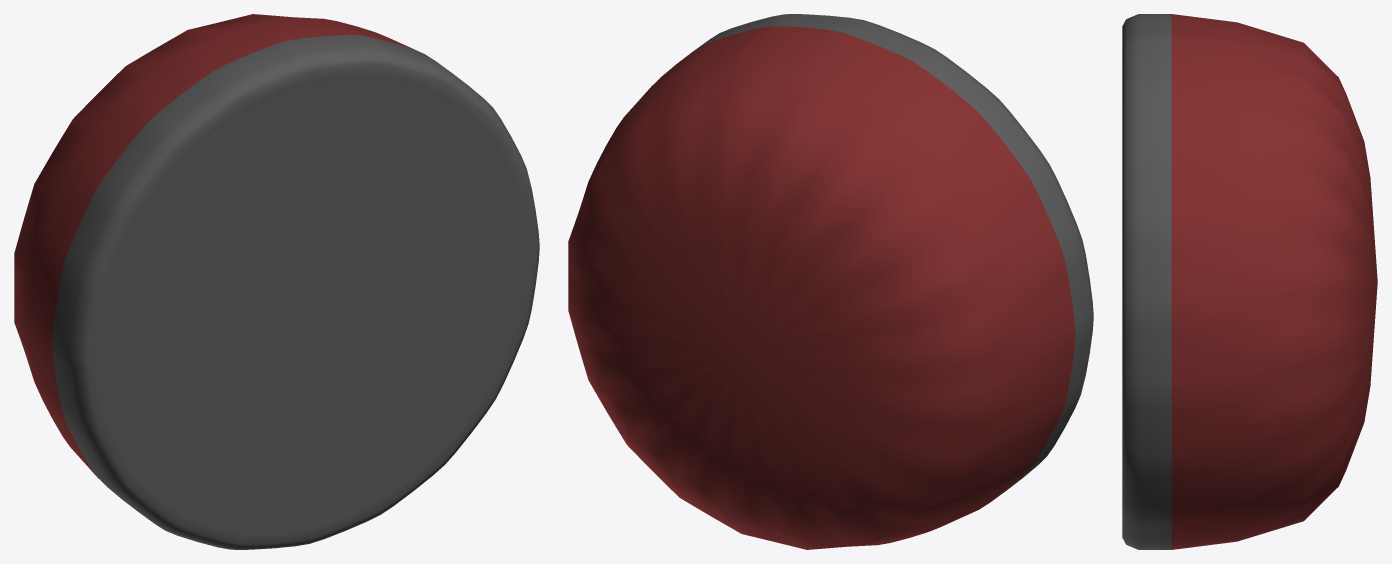
The model's file is Red light alarm.fbx.
The picture shows the model from 3 angles, left to right: view 1: azimuth 30°, elevation 25°; view 2: azimuth 150°, elevation 25°; view 3: azimuth 270°, elevation 25°; orthographic projection.
Visible parts, largest first — view 1: pasted__pCylinder2; view 2: pasted__pCylinder2; view 3: pasted__pCylinder2.
Part boxes in pixels (x1=…): pasted__pCylinder2: x1=14, y1=14, x2=539, y2=549; pasted__pCylinder2: x1=568, y1=14, x2=1093, y2=549; pasted__pCylinder2: x1=1122, y1=14, x2=1377, y2=549.
Bounding box in the file's own units: 1.73 × 1.73 × 0.82.
